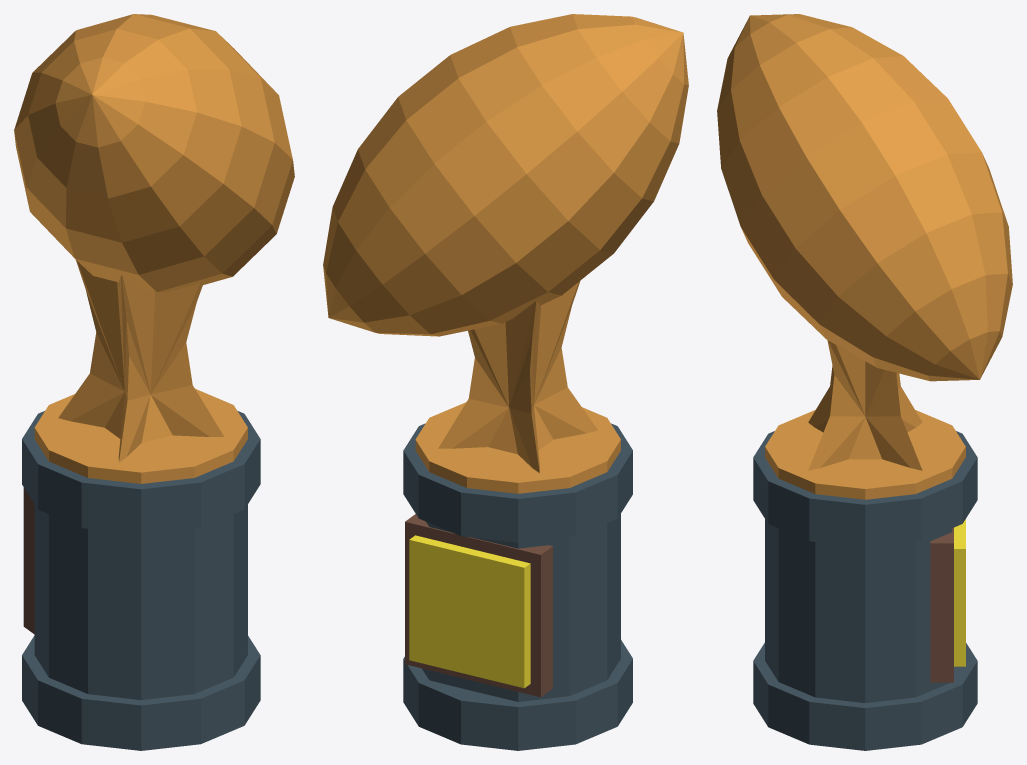
The model's file is world-cup-trophy.glb.
3 views of the same model, side by side, from view 1: azimuth 30°, elevation 25°; view 2: azimuth 150°, elevation 25°; view 3: azimuth 270°, elevation 25° (orthographic). The views are drawn at different scales.
Visible parts, largest first — view 1: group1404036289, group1617515226, group1272488227, group334481531, group1148787079, group383699054, group287719413; view 2: group1404036289, group1230591819, group1272488227, group1617515226, group334481531, group1148787079, group383699054, group287719413; view 3: group1404036289, group1617515226, group334481531, group1148787079, group383699054, group1272488227, group287719413, group1230591819.
Boxes of the visible parts, left/top/right/bottom form: group1404036289: left=14, top=14, right=294, bottom=292; group1617515226: left=34, top=504, right=247, bottom=699; group1272488227: left=58, top=260, right=223, bottom=462; group334481531: left=22, top=411, right=260, bottom=534; group1148787079: left=22, top=635, right=260, bottom=750; group383699054: left=34, top=389, right=247, bottom=483; group287719413: left=23, top=487, right=34, bottom=634; group1404036289: left=323, top=14, right=688, bottom=336; group1230591819: left=409, top=535, right=530, bottom=688; group1272488227: left=438, top=281, right=597, bottom=472; group1617515226: left=422, top=514, right=620, bottom=701; group334481531: left=403, top=423, right=632, bottom=542; group1148787079: left=403, top=640, right=632, bottom=750; group383699054: left=415, top=402, right=620, bottom=493; group287719413: left=405, top=514, right=552, bottom=697; group1404036289: left=717, top=14, right=1012, bottom=381; group1617515226: left=765, top=519, right=952, bottom=702; group334481531: left=753, top=431, right=977, bottom=547; group1148787079: left=753, top=642, right=977, bottom=750; group383699054: left=765, top=410, right=965, bottom=499; group1272488227: left=808, top=340, right=922, bottom=470; group287719413: left=930, top=527, right=953, bottom=682; group1230591819: left=954, top=519, right=965, bottom=666.
Bounding box in the file's own units: 0.265 × 0.6117 × 0.2505.
